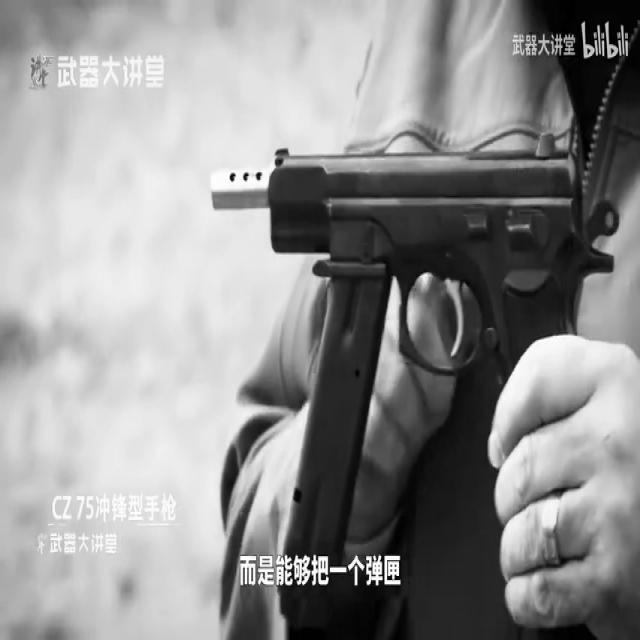Hand-Gun: (210, 126, 610, 606)
